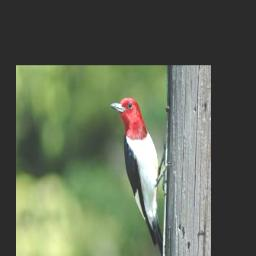Woodpecker: (109, 96, 174, 256)
